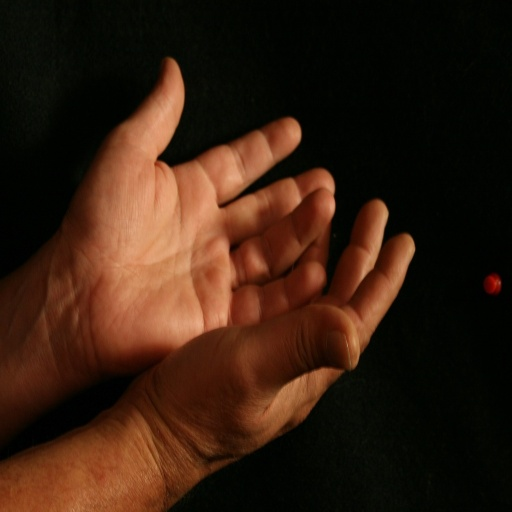hand: (60, 57, 335, 376), (128, 195, 417, 486)
